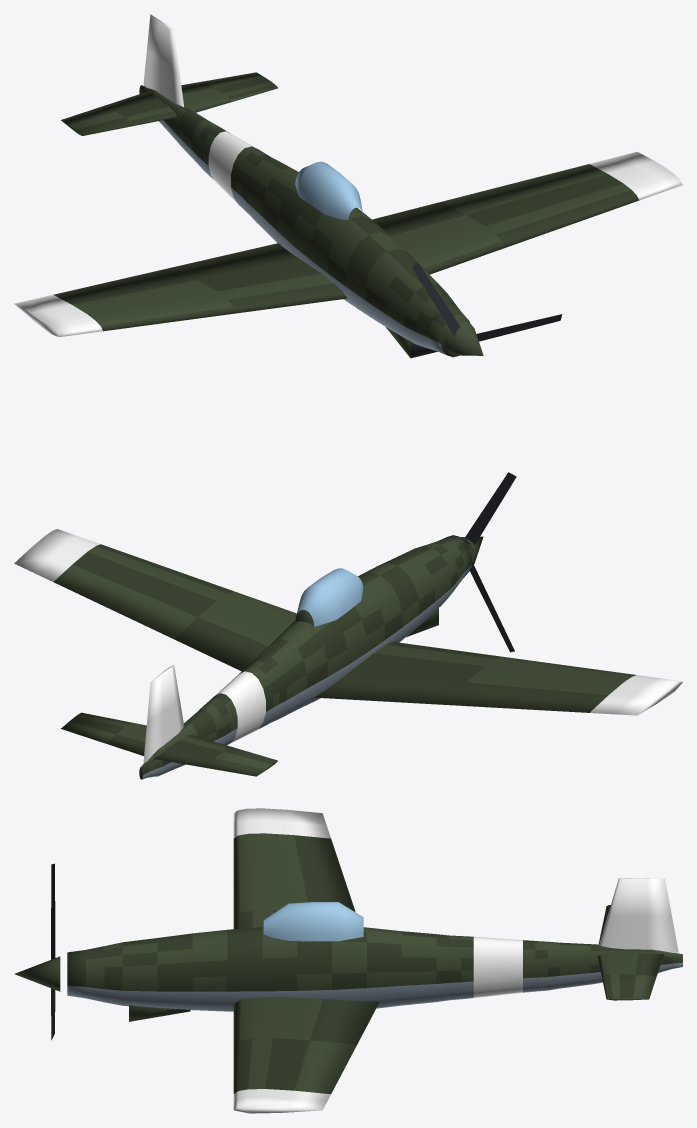
3 views of the same model, one above another, from view 1: azimuth 30°, elevation 25°; view 2: azimuth 150°, elevation 25°; view 3: azimuth 270°, elevation 25° (orthographic). The views are drawn at different scales.
Parts seen in each view (by area): view 1: body, prop; view 2: body, prop; view 3: body, prop.
Part boxes in pixels (x1=…): body: x1=14, y1=14, x2=682, y2=358; prop: x1=412, y1=261, x2=562, y2=355; body: x1=14, y1=529, x2=682, y2=779; prop: x1=460, y1=472, x2=516, y2=652; body: x1=67, y1=808, x2=682, y2=1113; prop: x1=14, y1=863, x2=60, y2=1040.
Size of the model in its own units: 9.87 by 2.85 by 9.39.
